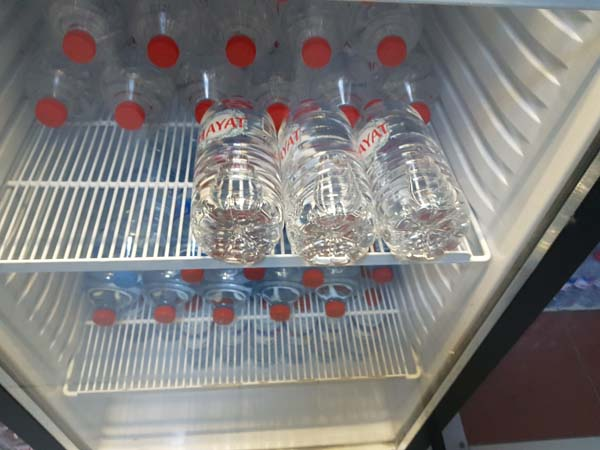hayat1000mlsu: (359, 98, 472, 260), (192, 94, 282, 258), (282, 104, 377, 258)
